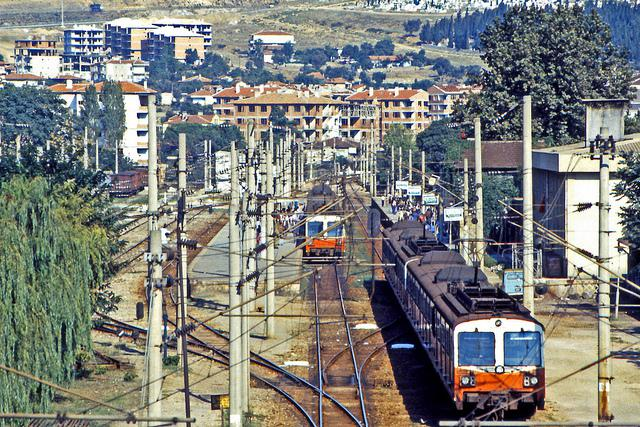Train: (382, 227, 548, 413), (304, 183, 348, 261)
